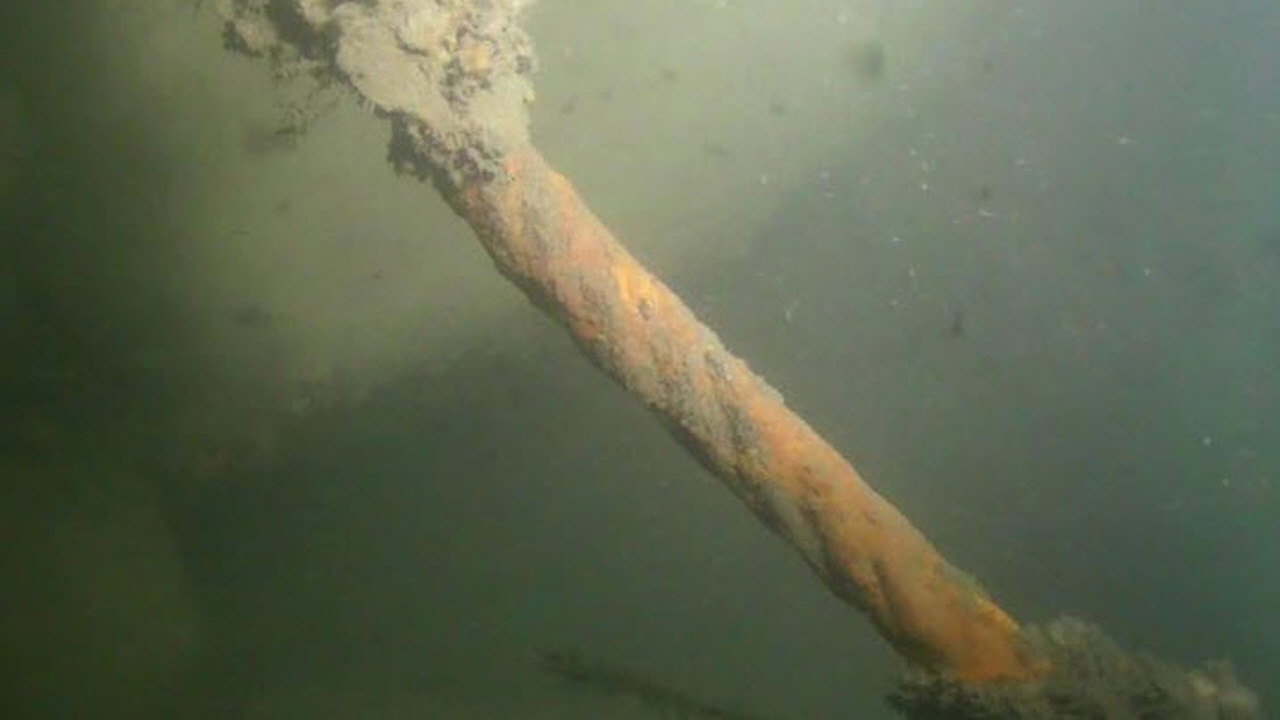rope: (459, 141, 1022, 679)
